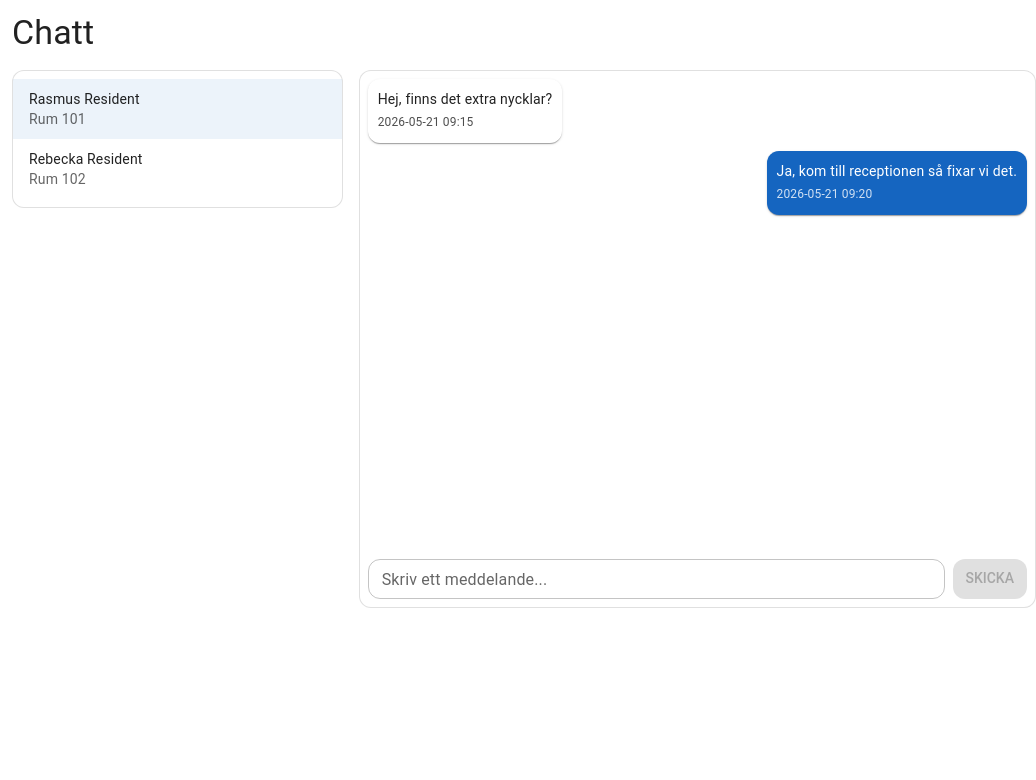
Scenario: AdminChatPage › opens the selected thread and sends a message
This screenshot has width=1036, height=780.
Click the text "Rasmus Resident".
click(84, 99)  # box [29, 91, 140, 107]
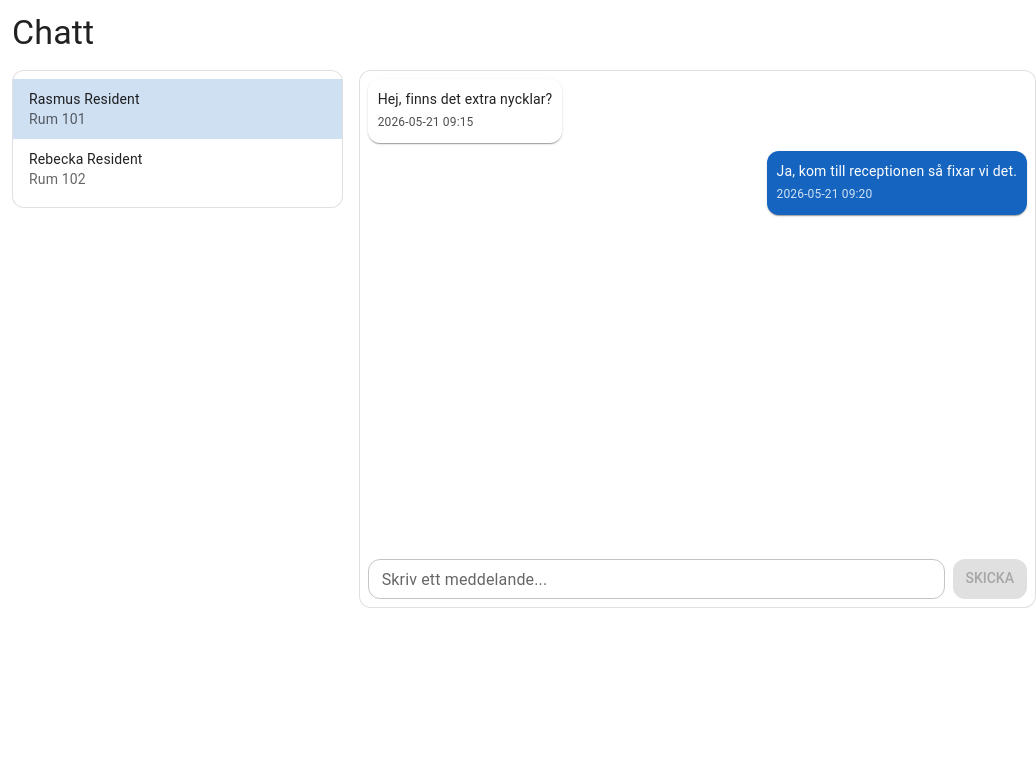
Expected: the text "Hej, finns det extra nycklar?" is shown, [378, 89, 552, 109]
Type "Hej Rasmus!" into the field labelled "Skriv ett meddelande...".
click(656, 579); type("Hej Rasmus!")  # box [368, 559, 945, 599]
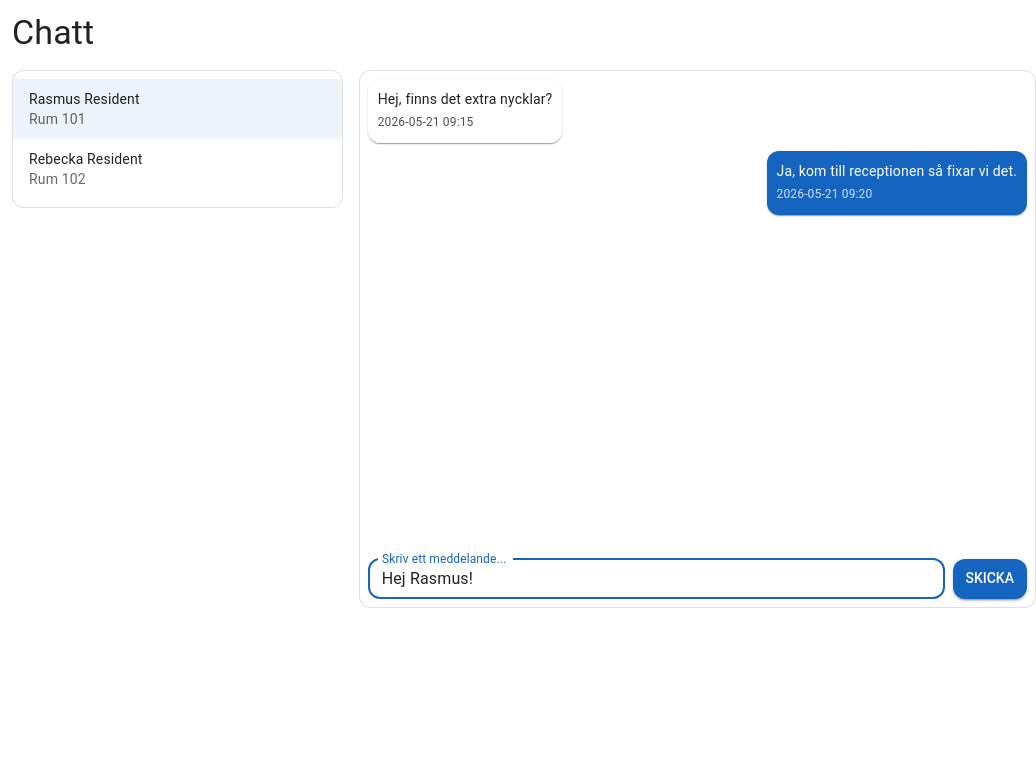
Click the button "Skicka".
click(990, 579)  # box [952, 559, 1027, 599]
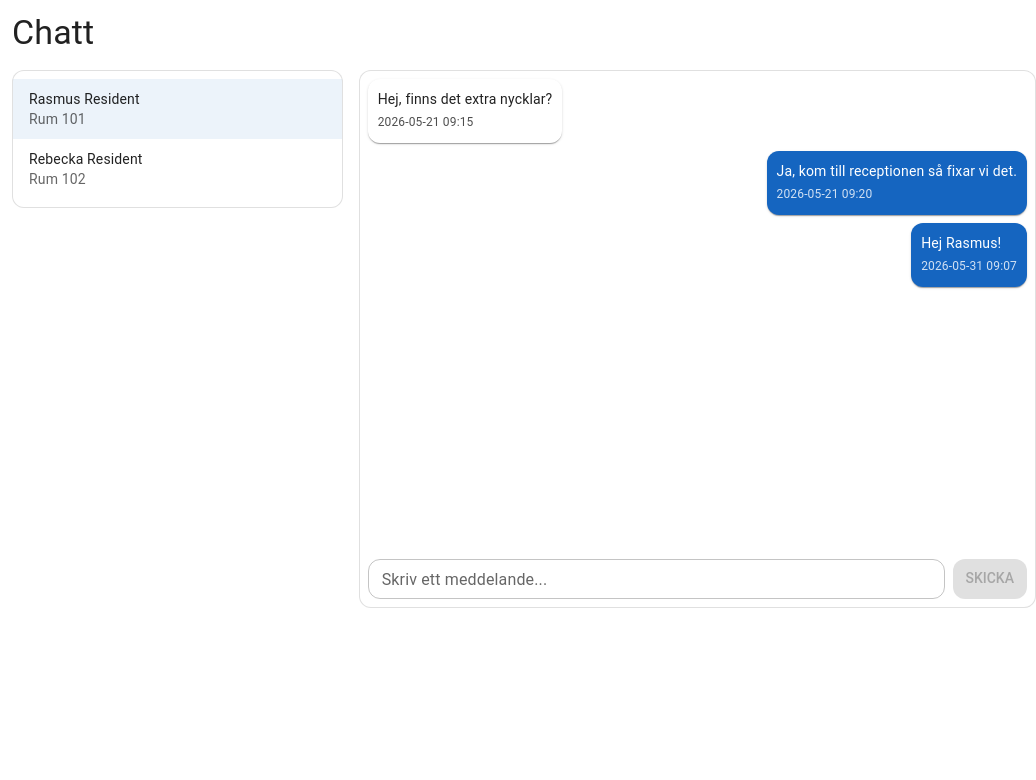
Now the text "Hej Rasmus!" is shown, box [921, 235, 1001, 251]
